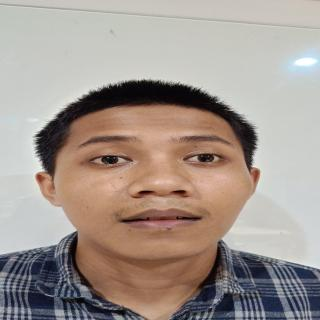Takut: (46, 105, 262, 267)
